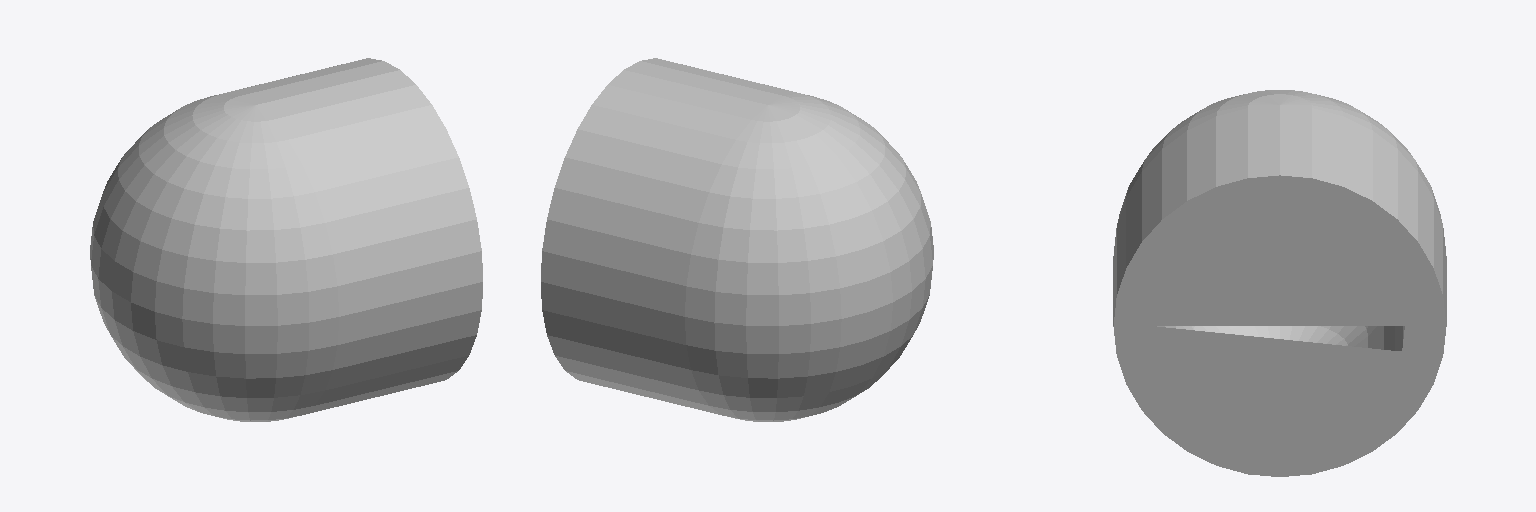
The model's file is tube_cap.obj.
3 renders of one model, left to right at view 1: azimuth 30°, elevation 25°; view 2: azimuth 150°, elevation 25°; view 3: azimuth 270°, elevation 25°, orthographic.
Visible parts, largest first — view 1: Sphere.001_Sphere.002; view 2: Sphere.001_Sphere.002; view 3: Sphere.001_Sphere.002.
Boxes of the visible parts, <box> form: Sphere.001_Sphere.002: <box>90,58,482,421</box>; Sphere.001_Sphere.002: <box>541,58,933,421</box>; Sphere.001_Sphere.002: <box>1113,90,1446,476</box>.
Bounding box in the file's own units: 2 × 2 × 2.